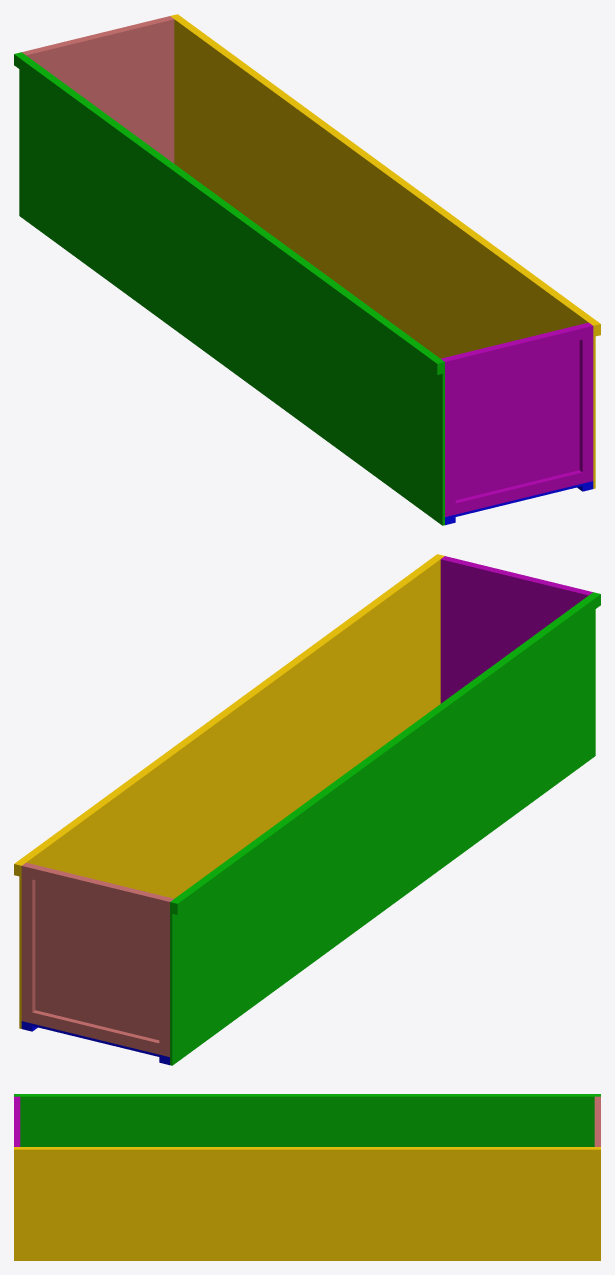
The model's file is result.glb.
3 views of the same model, one above another, from view 1: azimuth 30°, elevation 25°; view 2: azimuth 150°, elevation 25°; view 3: azimuth 270°, elevation 25° (orthographic). The views are drawn at different scales.
Parts seen in each view (by area): view 1: 1003c79a-bff6-4277-8645-d94b8b785687__Box_6, c8a2f20b-8012-4cda-94d3-f4533003707b__undefined, b7d64029-8830-43f4-baf8-bcb7cf0c48c9__Box_3, 78d7e7af-b91a-4313-9190-73e7d5037766__undefined, cfa949ae-dbe2-4c39-9679-1897af48ea27__Box_7, dcd25146-071f-4667-8a73-af224296ae68__undefined, 5c10af46-3f7e-481d-8829-3d8e1c8a274f__undefined, bd54dd1d-4200-4233-8e1c-628d02930e81__undefined, cdb7b226-c95a-4099-8e61-dd56795baed2__Box_5, 09541a6a-5b90-42a5-85c8-5bc1c63ca56f__Box_4; view 2: 1003c79a-bff6-4277-8645-d94b8b785687__Box_6, c8a2f20b-8012-4cda-94d3-f4533003707b__undefined, 78d7e7af-b91a-4313-9190-73e7d5037766__undefined, b7d64029-8830-43f4-baf8-bcb7cf0c48c9__Box_3, cfa949ae-dbe2-4c39-9679-1897af48ea27__Box_7, dcd25146-071f-4667-8a73-af224296ae68__undefined, 17ef4f1d-90f0-44a5-ad28-37ceab694ac9__undefined, 03d51be3-8161-406d-83fc-7f5d56badebb__undefined, 776e320d-7e1d-4a97-a38a-e6e937e8af43__undefined, d7c8e44e-84fb-4ba8-a593-d2a041315eba__undefined; view 3: c8a2f20b-8012-4cda-94d3-f4533003707b__undefined, 1003c79a-bff6-4277-8645-d94b8b785687__Box_6, dcd25146-071f-4667-8a73-af224296ae68__undefined, cfa949ae-dbe2-4c39-9679-1897af48ea27__Box_7.
Part boxes in pixels (x1,y1,x2,y2): 1003c79a-bff6-4277-8645-d94b8b785687__Box_6: (19,52,444,525); c8a2f20b-8012-4cda-94d3-f4533003707b__undefined: (170,15,595,488); b7d64029-8830-43f4-baf8-bcb7cf0c48c9__Box_3: (441,322,589,500); 78d7e7af-b91a-4313-9190-73e7d5037766__undefined: (25,18,174,163); cfa949ae-dbe2-4c39-9679-1897af48ea27__Box_7: (14,53,442,374); dcd25146-071f-4667-8a73-af224296ae68__undefined: (172,14,600,336); 5c10af46-3f7e-481d-8829-3d8e1c8a274f__undefined: (579,323,593,483); bd54dd1d-4200-4233-8e1c-628d02930e81__undefined: (453,326,582,370); cdb7b226-c95a-4099-8e61-dd56795baed2__Box_5: (455,470,582,514); 09541a6a-5b90-42a5-85c8-5bc1c63ca56f__Box_4: (442,357,455,516); 1003c79a-bff6-4277-8645-d94b8b785687__Box_6: (170,592,595,1065); c8a2f20b-8012-4cda-94d3-f4533003707b__undefined: (19,555,444,1028); 78d7e7af-b91a-4313-9190-73e7d5037766__undefined: (25,862,173,1040); b7d64029-8830-43f4-baf8-bcb7cf0c48c9__Box_3: (440,558,589,703); cfa949ae-dbe2-4c39-9679-1897af48ea27__Box_7: (172,593,600,914); dcd25146-071f-4667-8a73-af224296ae68__undefined: (14,554,442,876); 17ef4f1d-90f0-44a5-ad28-37ceab694ac9__undefined: (21,863,35,1023); 03d51be3-8161-406d-83fc-7f5d56badebb__undefined: (32,866,161,910); 776e320d-7e1d-4a97-a38a-e6e937e8af43__undefined: (32,1010,159,1054); d7c8e44e-84fb-4ba8-a593-d2a041315eba__undefined: (159,897,172,1056); c8a2f20b-8012-4cda-94d3-f4533003707b__undefined: (14,1147,600,1260); 1003c79a-bff6-4277-8645-d94b8b785687__Box_6: (14,1096,600,1146); dcd25146-071f-4667-8a73-af224296ae68__undefined: (14,1147,600,1157); cfa949ae-dbe2-4c39-9679-1897af48ea27__Box_7: (14,1094,600,1095).
Bounding box in the file's own units: 552 × 526 × 2472.
